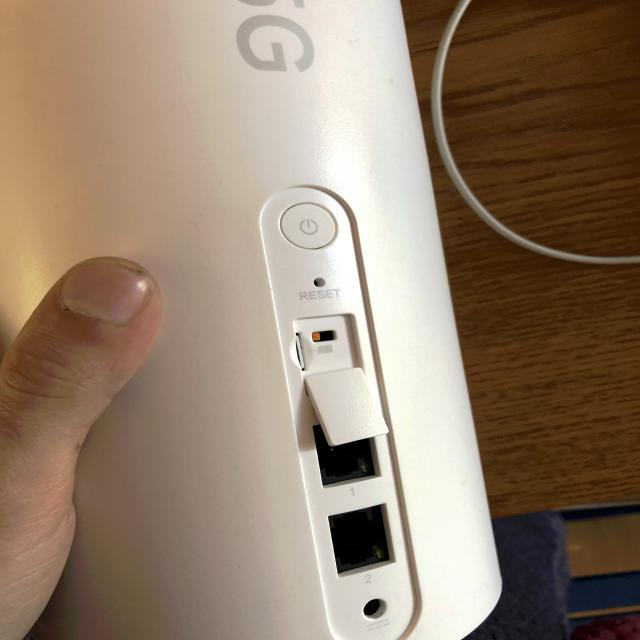lan: (325, 500, 397, 580)
modem: (0, 0, 523, 640)
onbutton: (281, 203, 338, 249)
pow: (345, 588, 417, 640)
siminside: (281, 327, 315, 377)
